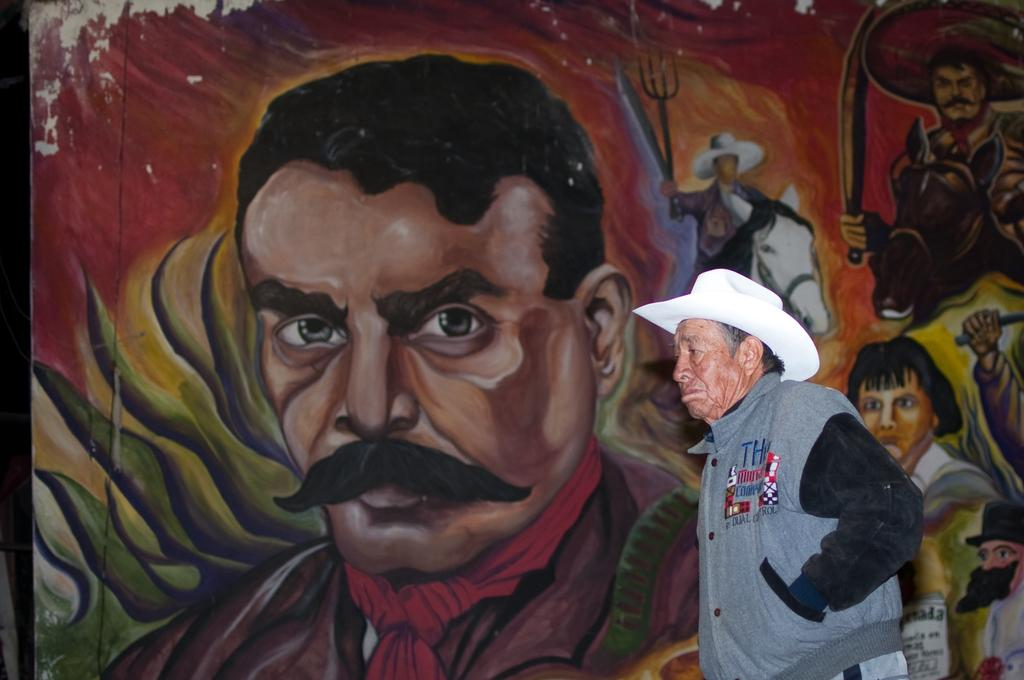Hat: (630, 264, 815, 380), (858, 0, 1022, 106), (694, 126, 765, 180)
